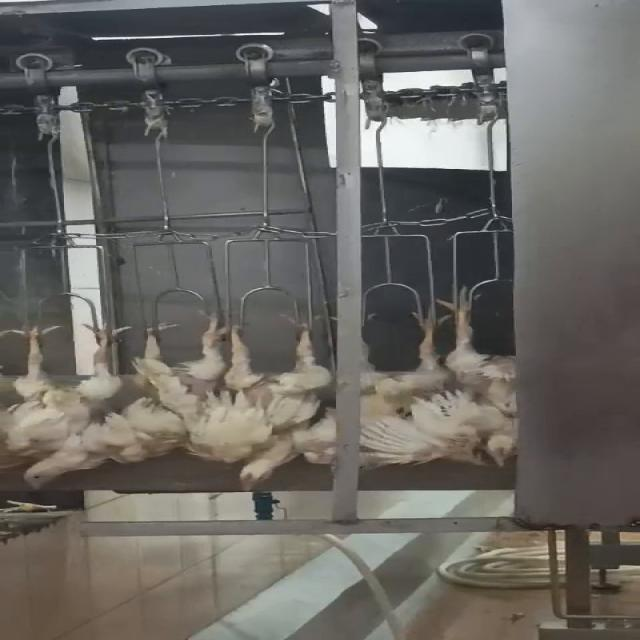chicken: (0, 316, 139, 493), (226, 312, 342, 498), (428, 276, 524, 472), (138, 304, 242, 474), (359, 298, 445, 480)
